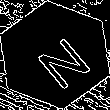N_NW: (22, 23, 88, 87)
